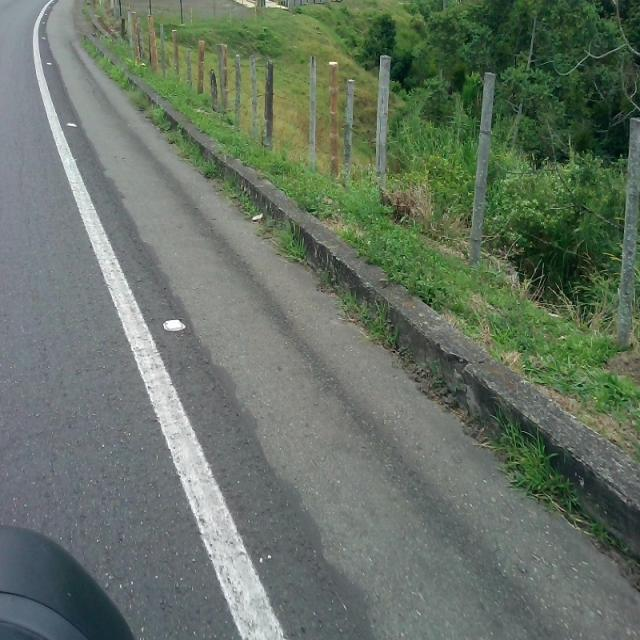DITCH: (15, 1, 638, 638)
